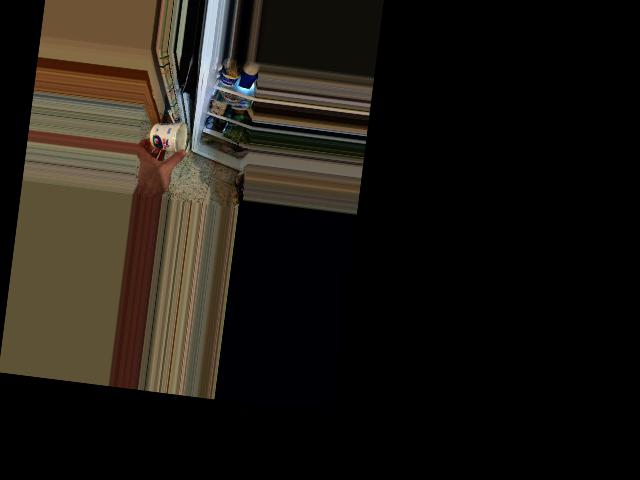cotage: (150, 121, 187, 156)
